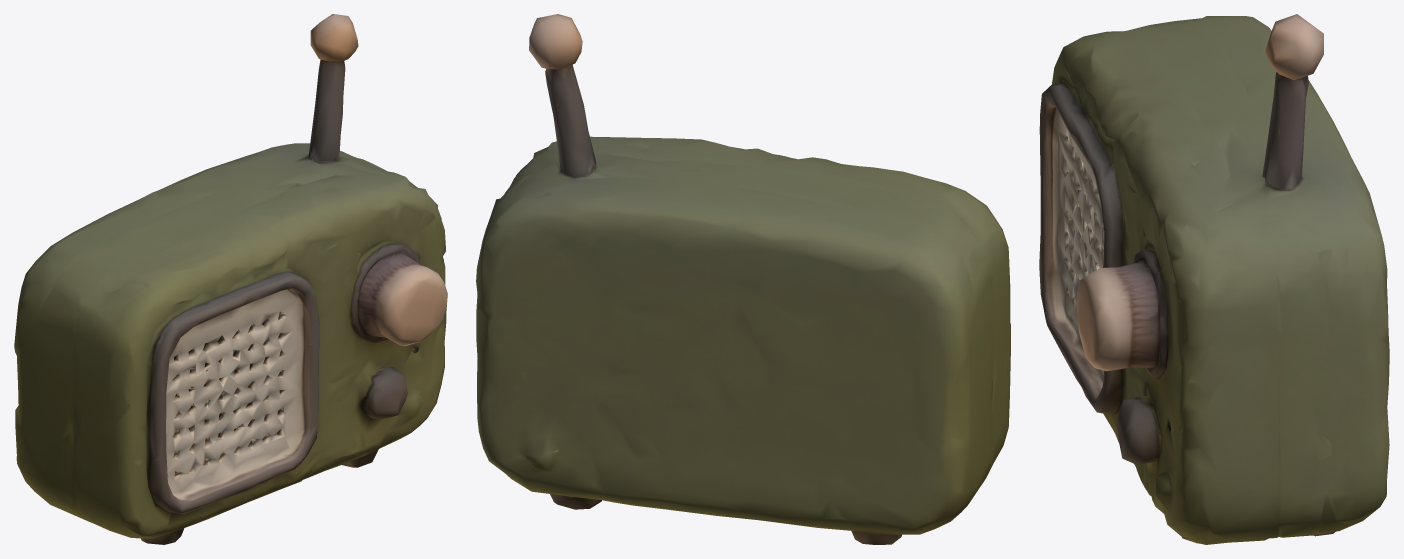
Rendered from field_radio.glb.
The picture shows the model from 3 angles, left to right: view 1: azimuth 30°, elevation 25°; view 2: azimuth 150°, elevation 25°; view 3: azimuth 270°, elevation 25°; orthographic projection. The views are drawn at different scales.
Parts seen in each view (by area): view 1: tripo_node_007868ee-d984-4c61-acb3-35efc0109c1c; view 2: tripo_node_007868ee-d984-4c61-acb3-35efc0109c1c; view 3: tripo_node_007868ee-d984-4c61-acb3-35efc0109c1c.
Boxes of the visible parts, <box> form: tripo_node_007868ee-d984-4c61-acb3-35efc0109c1c: <box>14,14,447,544</box>; tripo_node_007868ee-d984-4c61-acb3-35efc0109c1c: <box>476,14,1010,544</box>; tripo_node_007868ee-d984-4c61-acb3-35efc0109c1c: <box>1039,14,1389,544</box>.
Size of the model in its own units: 1 by 0.9597 by 0.5792.
Materials: 1 (1 with a texture image).
